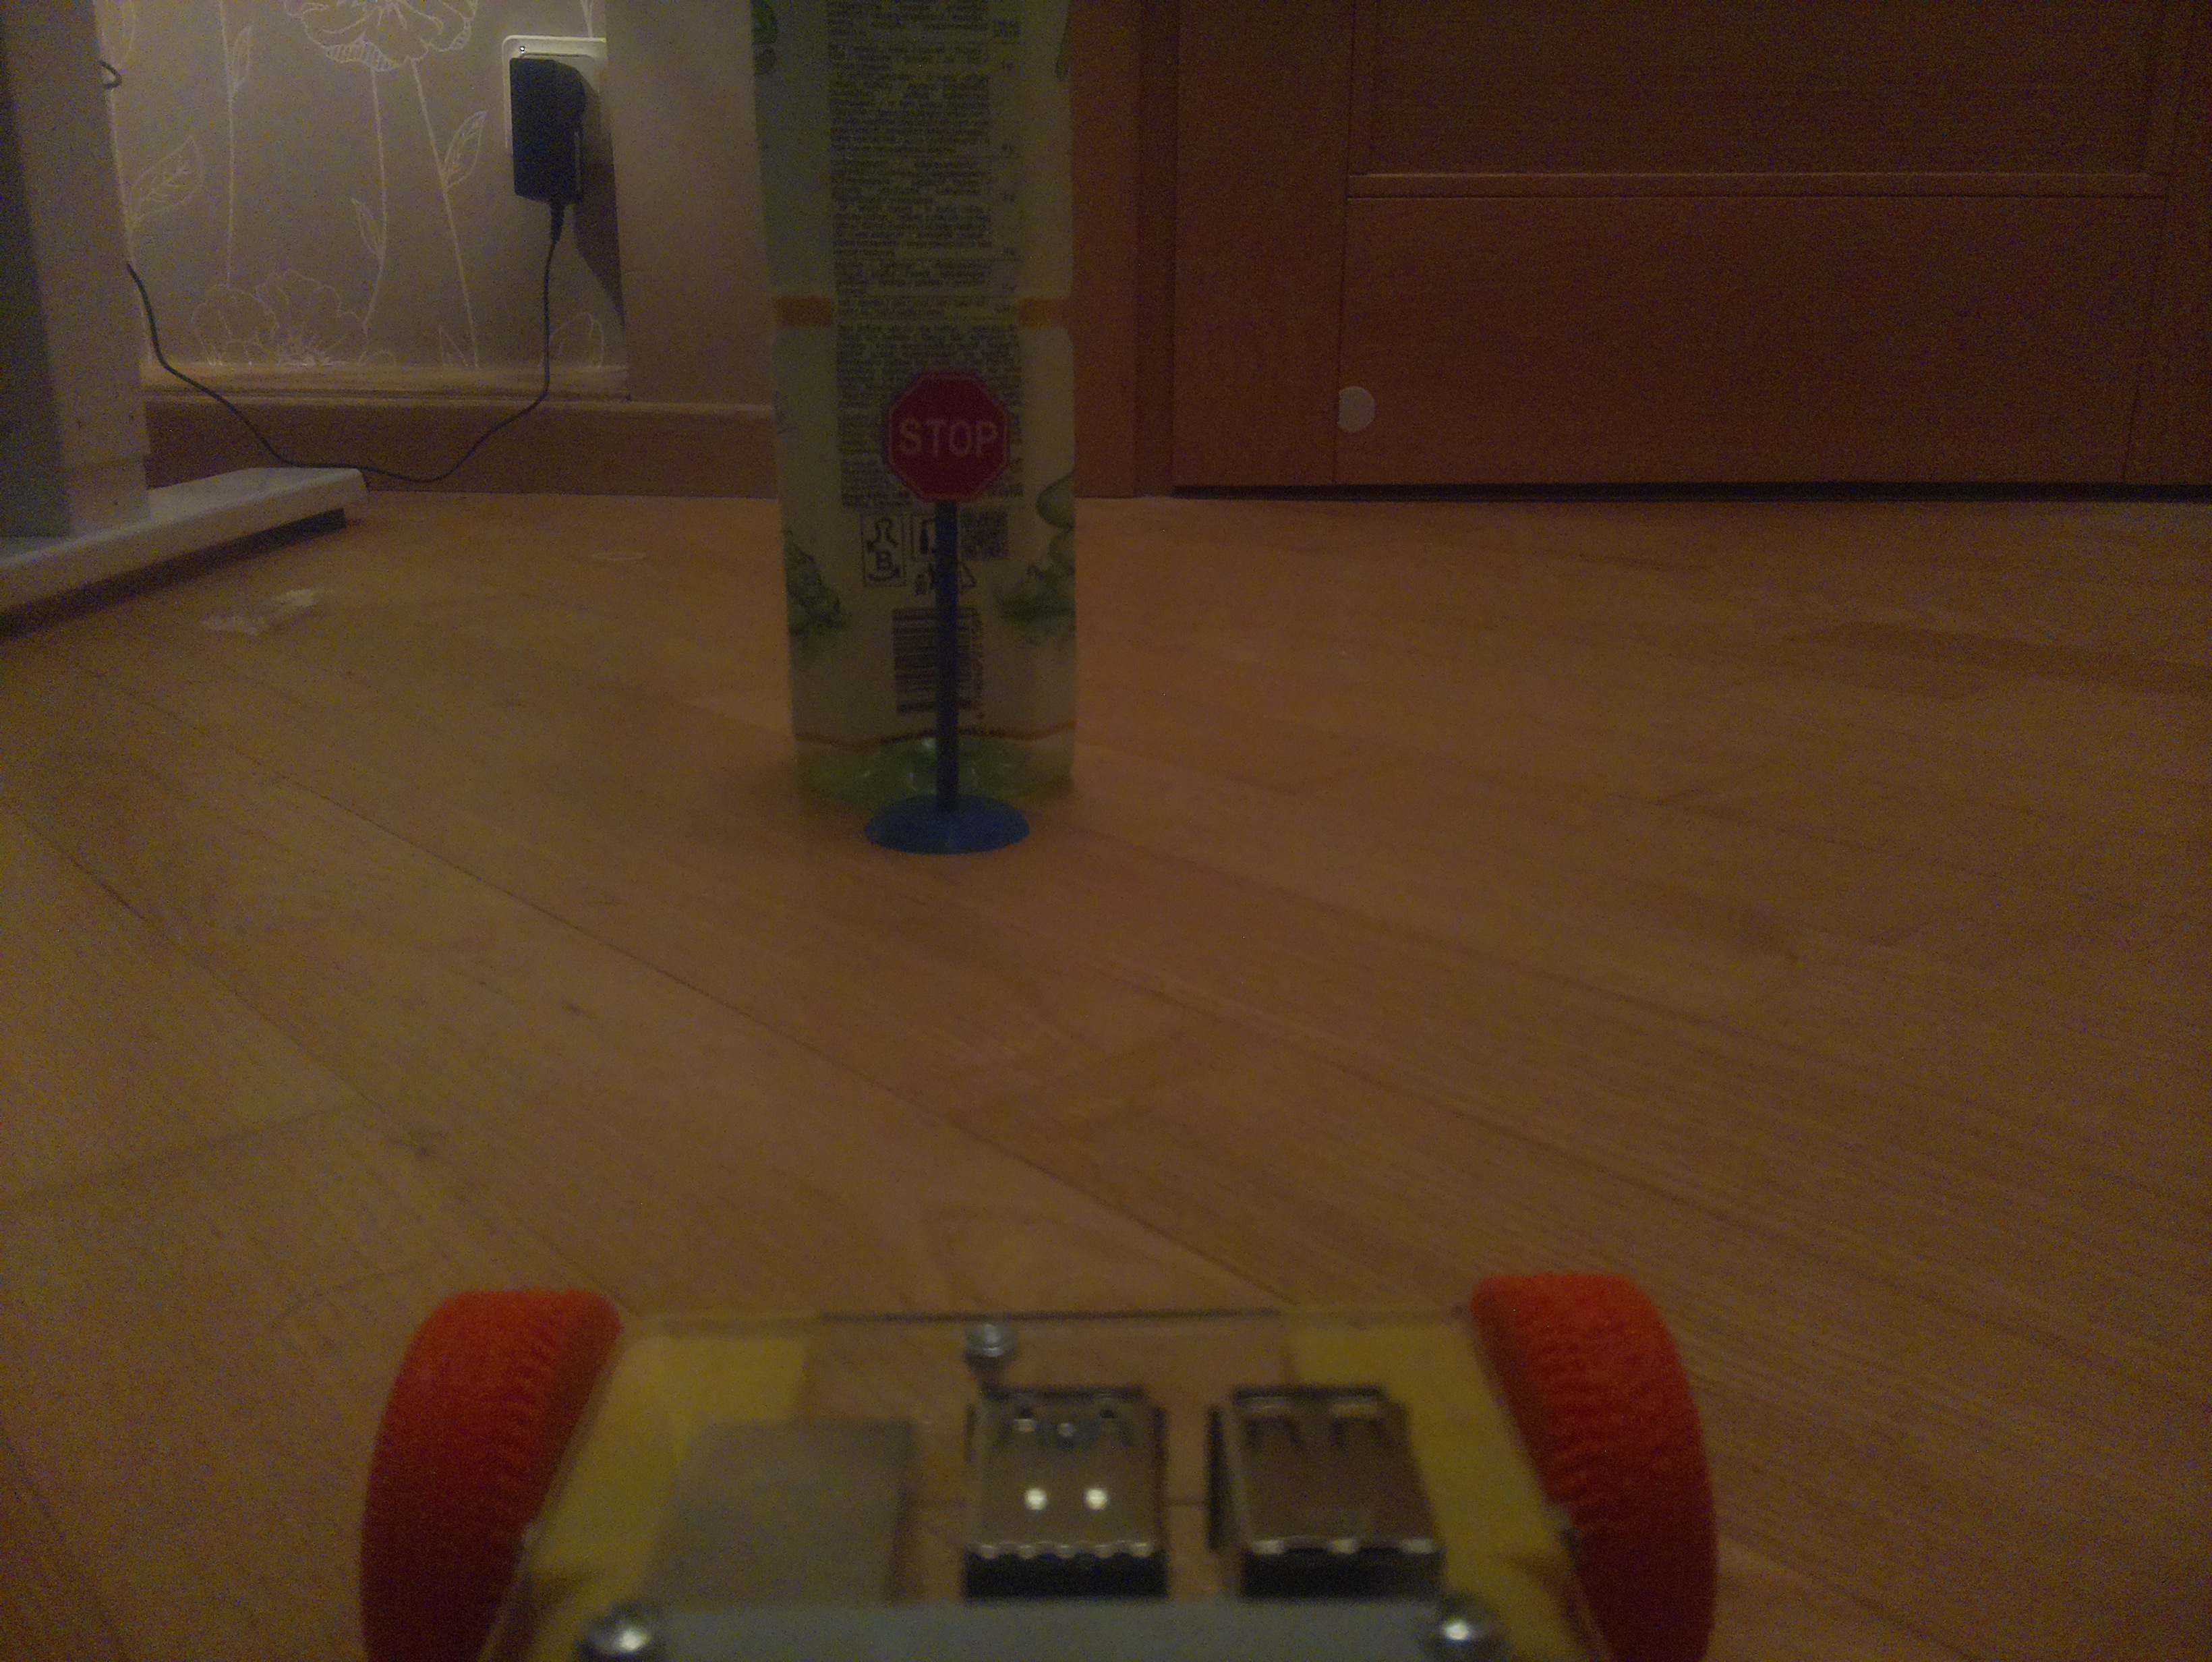stop: (886, 371, 1012, 502)
